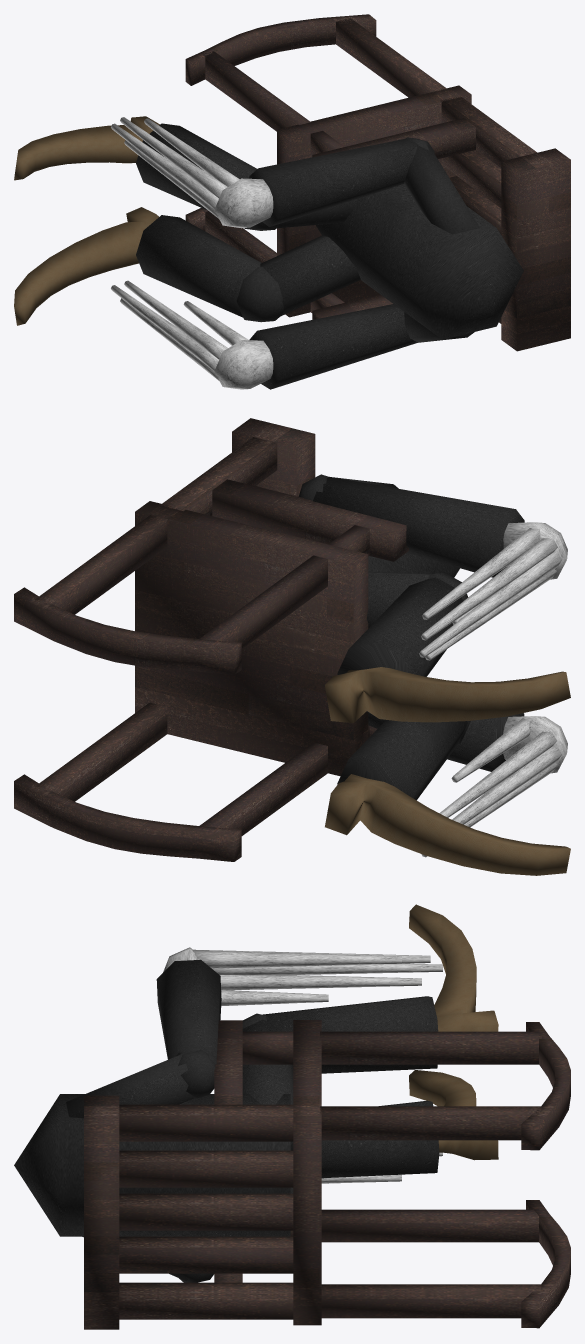
The model's file is body.obj.
3 renders of one model, top to bottom at view 1: azimuth 30°, elevation 25°; view 2: azimuth 150°, elevation 25°; view 3: azimuth 270°, elevation 25°, orthographic. The views are drawn at different scales.
Parts seen in each view (by area): view 1: Rectangle002, NGon002, Cylinder003, Line007, Cylinder001, Cylinder002, Sphere003, Cylinder004, Cone004, Sphere001, Cone005, Cone003 (+2 smaller); view 2: Rectangle002, Line007, Cylinder001, Cylinder003, Cone004, Cone003, Cone005, Sphere003, Cone006, Cylinder002, Cone007, NGon002; view 3: Rectangle002, NGon002, Cylinder001, Line007, Cylinder003, Cylinder004, Cone006, Cone003, Cylinder002, Cone004, Sphere002, Cone007 (+1 smaller).
Part boxes in pixels (bbox=[...]): Rectangle002: bbox=[185, 14, 570, 351]; NGon002: bbox=[315, 184, 523, 339]; Cylinder003: bbox=[249, 138, 417, 389]; Line007: bbox=[14, 116, 159, 325]; Cylinder001: bbox=[136, 123, 261, 317]; Cylinder002: bbox=[260, 199, 360, 316]; Sphere003: bbox=[214, 178, 273, 389]; Cylinder004: bbox=[404, 145, 479, 342]; Cone004: bbox=[111, 123, 218, 371]; Sphere001: bbox=[236, 222, 283, 322]; Cone005: bbox=[120, 117, 227, 380]; Cone003: bbox=[124, 140, 227, 359]; Rectangle002: bbox=[14, 418, 408, 861]; Line007: bbox=[325, 667, 570, 875]; Cylinder001: bbox=[337, 577, 467, 800]; Cylinder003: bbox=[313, 476, 524, 771]; Cone004: bbox=[419, 551, 561, 824]; Cone003: bbox=[425, 569, 556, 817]; Cone005: bbox=[421, 538, 557, 857]; Sphere003: bbox=[503, 522, 567, 773]; Cone006: bbox=[422, 528, 540, 819]; Cylinder002: bbox=[366, 571, 431, 728]; Cone007: bbox=[451, 604, 530, 782]; NGon002: bbox=[368, 552, 459, 577]; Rectangle002: bbox=[84, 1020, 570, 1329]; NGon002: bbox=[14, 1094, 290, 1236]; Cylinder001: bbox=[262, 996, 439, 1178]; Line007: bbox=[409, 904, 498, 1160]; Cylinder003: bbox=[156, 959, 221, 1064]; Cylinder004: bbox=[66, 1053, 194, 1281]; Cone006: bbox=[192, 950, 401, 1183]; Cone003: bbox=[220, 975, 421, 990]; Cylinder002: bbox=[242, 1019, 293, 1193]; Cone004: bbox=[212, 963, 442, 1156]; Sphere002: bbox=[176, 1050, 215, 1282]; Cone007: bbox=[221, 990, 328, 1005].
Bounding box in the file's own units: 1.89 × 0.9404 × 1.94.
